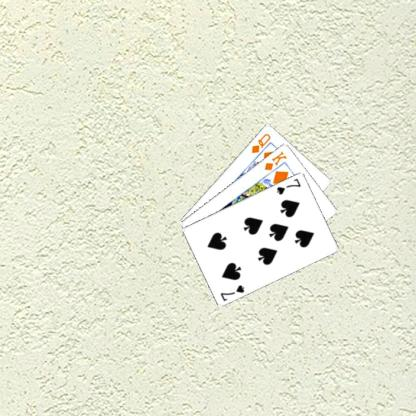7S: (217, 282, 246, 302), (274, 176, 302, 196)
KD: (262, 148, 288, 172)
QD: (249, 131, 272, 154)
